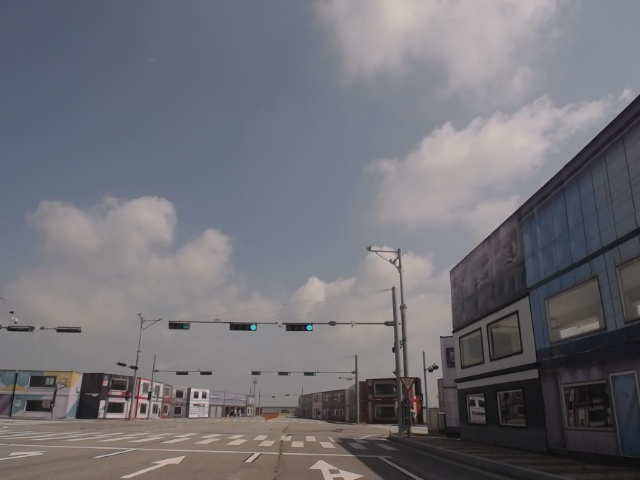straight_green_4: (230, 321, 259, 332), (284, 323, 315, 331)
